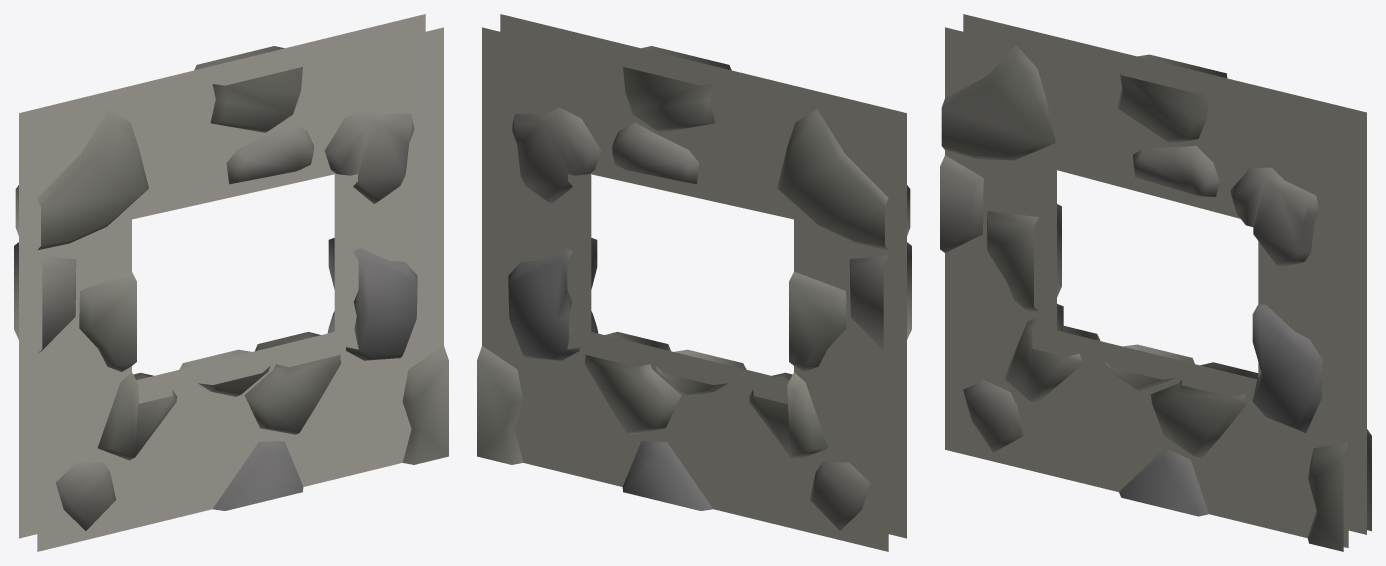
The model's file is rpgpp_ag_wall_04_3x3_window_01b.fbx.
3 renders of one model, left to right at view 1: azimuth 30°, elevation 25°; view 2: azimuth 150°, elevation 25°; view 3: azimuth 330°, elevation 25°, orthographic.
Parts seen in each view (by area): view 1: rpgpp_ag_wall_04_3x3_window_01b; view 2: rpgpp_ag_wall_04_3x3_window_01b; view 3: rpgpp_ag_wall_04_3x3_window_01b.
Part boxes in pixels (x1,y1,x2,y2): rpgpp_ag_wall_04_3x3_window_01b: (14, 14, 448, 551); rpgpp_ag_wall_04_3x3_window_01b: (477, 14, 911, 551); rpgpp_ag_wall_04_3x3_window_01b: (940, 14, 1371, 551).
Bounding box in the file's own units: 3 × 3 × 0.404.
